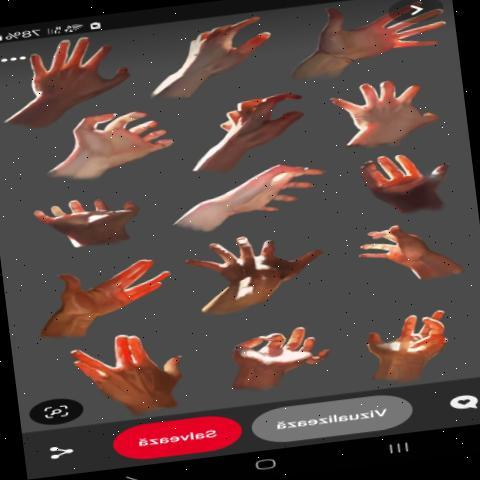Hands: (167, 142, 328, 241), (16, 98, 176, 197), (61, 313, 199, 414), (184, 222, 321, 316)
